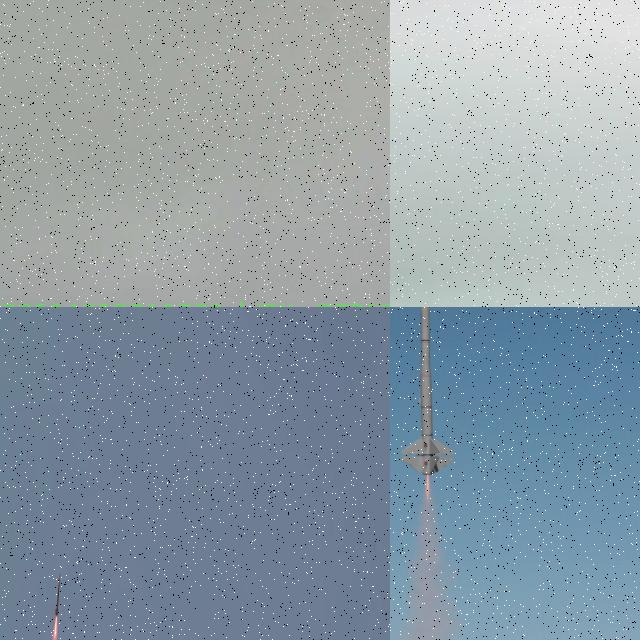Rocket: (399, 307, 457, 476), (55, 572, 60, 618)
